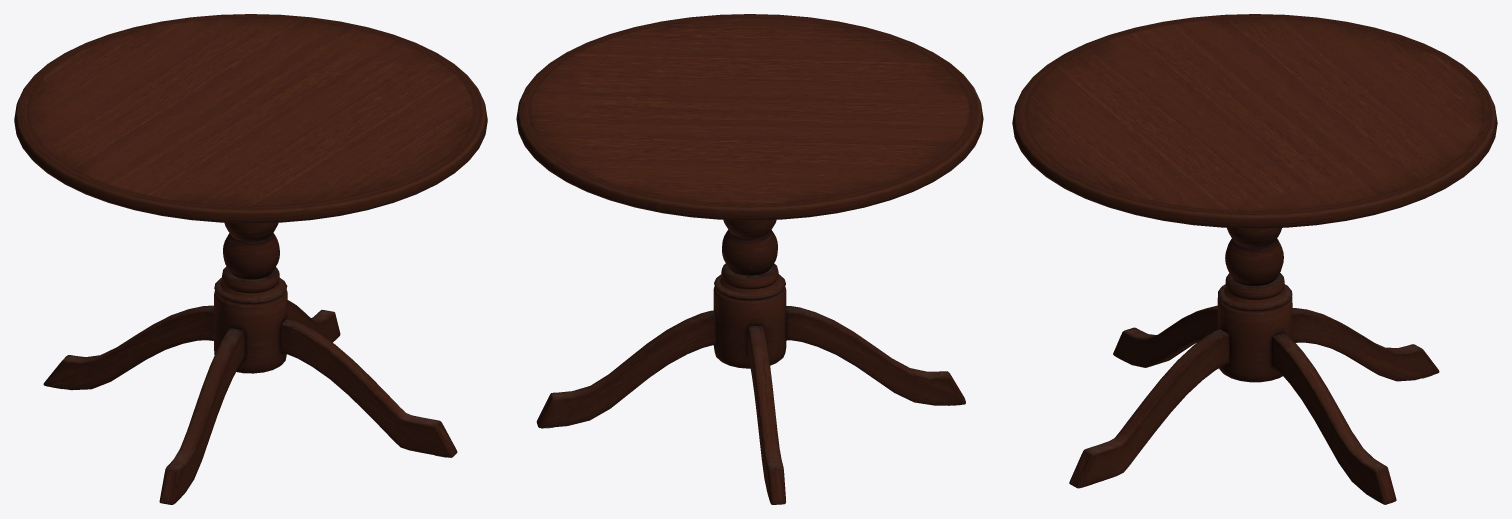
File: yemek-masasi.glb
3 views of the same model, side by side, from view 1: azimuth 30°, elevation 25°; view 2: azimuth 150°, elevation 25°; view 3: azimuth 270°, elevation 25° (orthographic). The views are drawn at different scales.
Parts seen in each view (by area): view 1: round_wooden_table_01; view 2: round_wooden_table_01; view 3: round_wooden_table_01.
Boxes of the visible parts, box(x1,y1,x2,y2) form: round_wooden_table_01: box(14, 14, 487, 504); round_wooden_table_01: box(516, 14, 983, 504); round_wooden_table_01: box(1012, 14, 1497, 504).
Bounding box in the file's own units: 1.4 × 1 × 1.4.
1 material, 1 textured.
